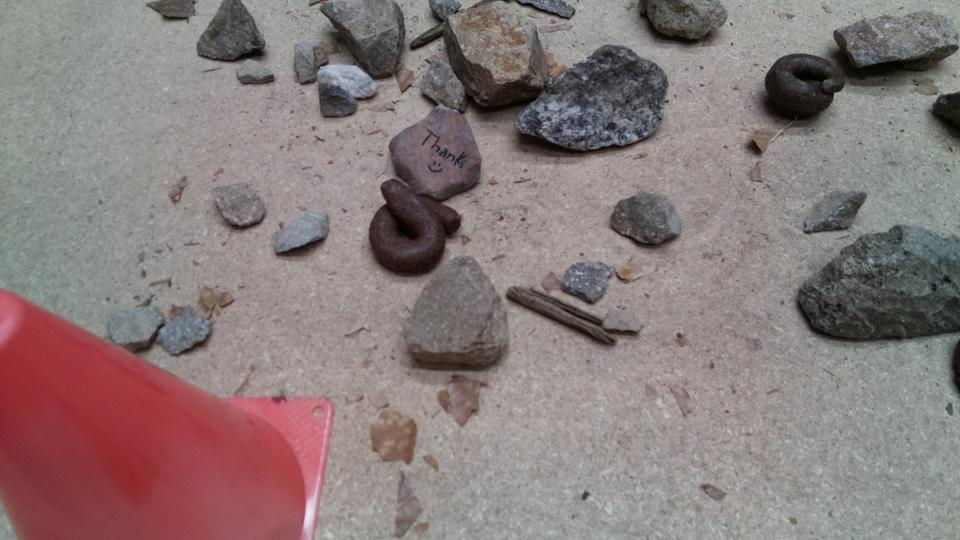poop: (367, 179, 463, 275), (763, 52, 845, 123)
